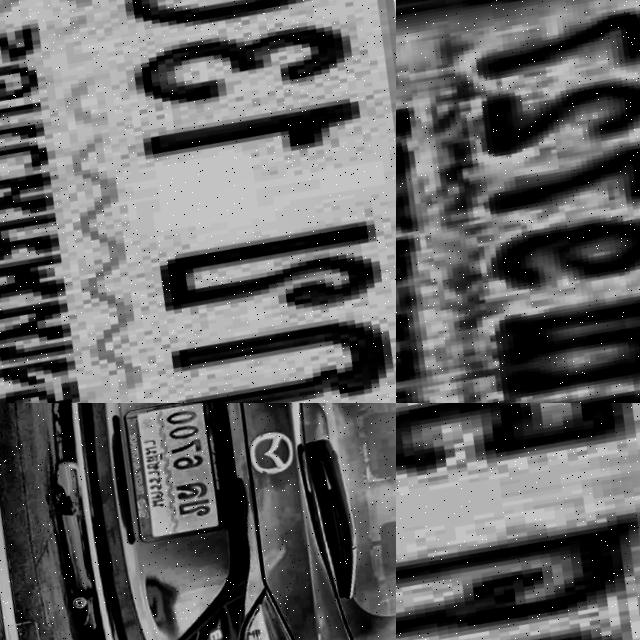license-plate: (0, 0, 396, 403), (396, 0, 640, 403), (396, 403, 640, 640), (115, 403, 248, 545)
